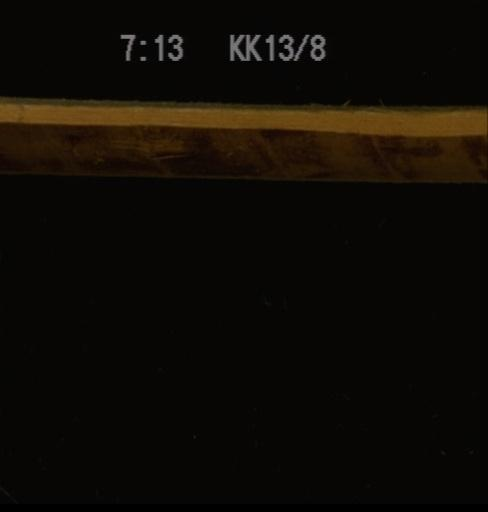wave: (0, 115, 486, 179)
